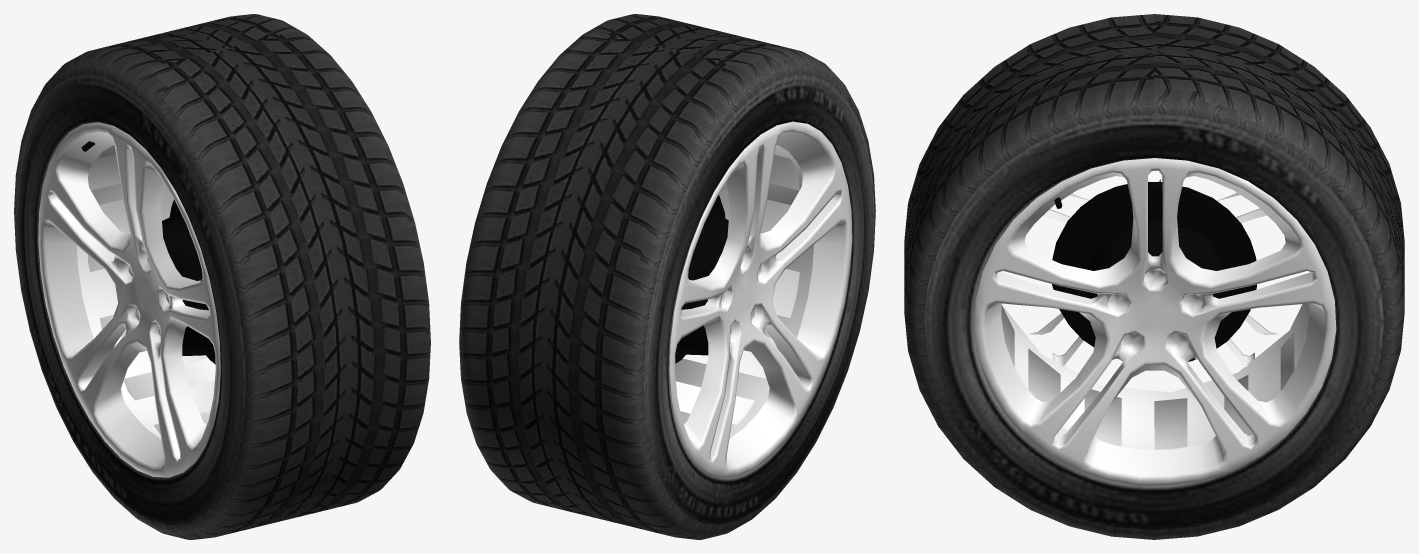
The model's file is wheel.glb.
3 views of the same model, side by side, from view 1: azimuth 30°, elevation 25°; view 2: azimuth 150°, elevation 25°; view 3: azimuth 270°, elevation 25° (orthographic).
Visible parts, largest first — view 1: ban s, ban s.001; view 2: ban s.001, ban s; view 3: ban s, ban s.001.
Part boxes in pixels (left/top/right/bottom): ban s: left=88, top=19, right=430, bottom=539; ban s.001: left=14, top=14, right=297, bottom=536; ban s.001: left=459, top=31, right=875, bottom=539; ban s: left=523, top=14, right=875, bottom=424; ban s: left=904, top=14, right=1386, bottom=539; ban s.001: left=1002, top=14, right=1404, bottom=536.
Size of the model in its own units: 0.2152 by 0.4953 by 0.4957.
Materials: 6 (2 with a texture image).
